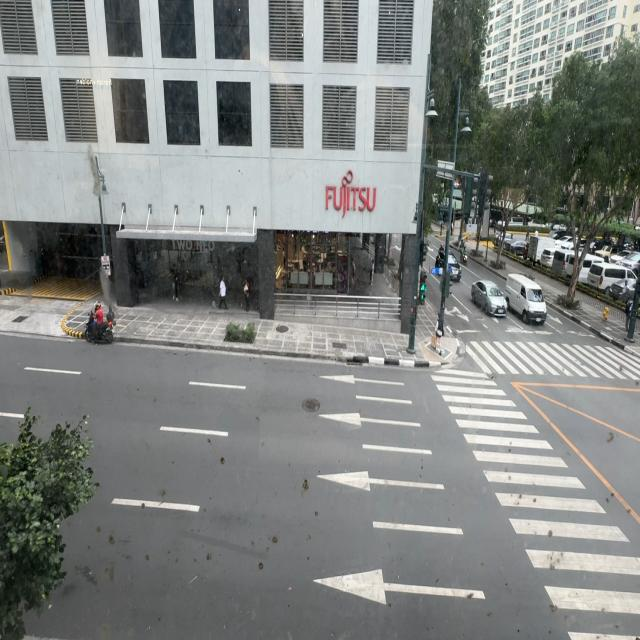crossing: (434, 308, 445, 354)
